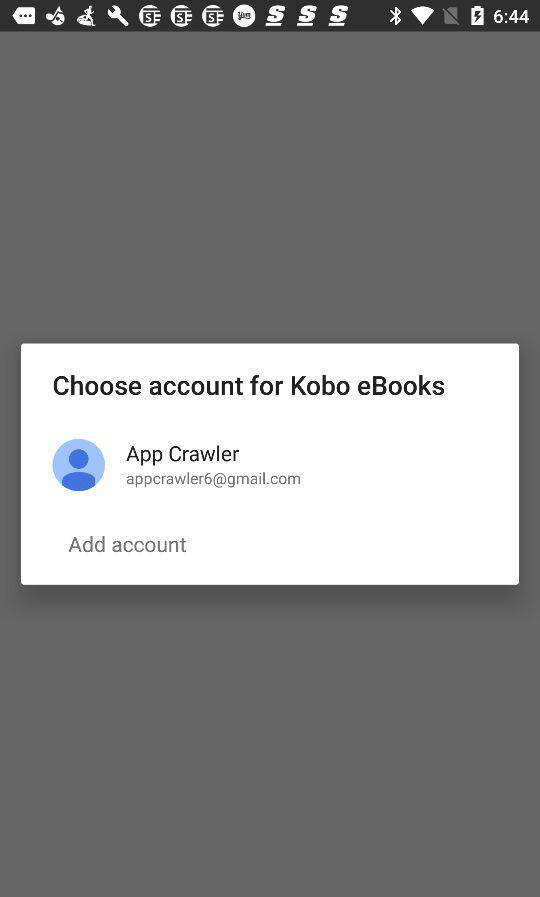Icon: (53, 439, 106, 492)
Modal: (21, 343, 519, 586)
Text: (54, 374, 445, 397), (126, 471, 302, 490), (126, 444, 241, 467), (69, 535, 187, 554)
UpperTaskBar: (1, 1, 540, 33)
